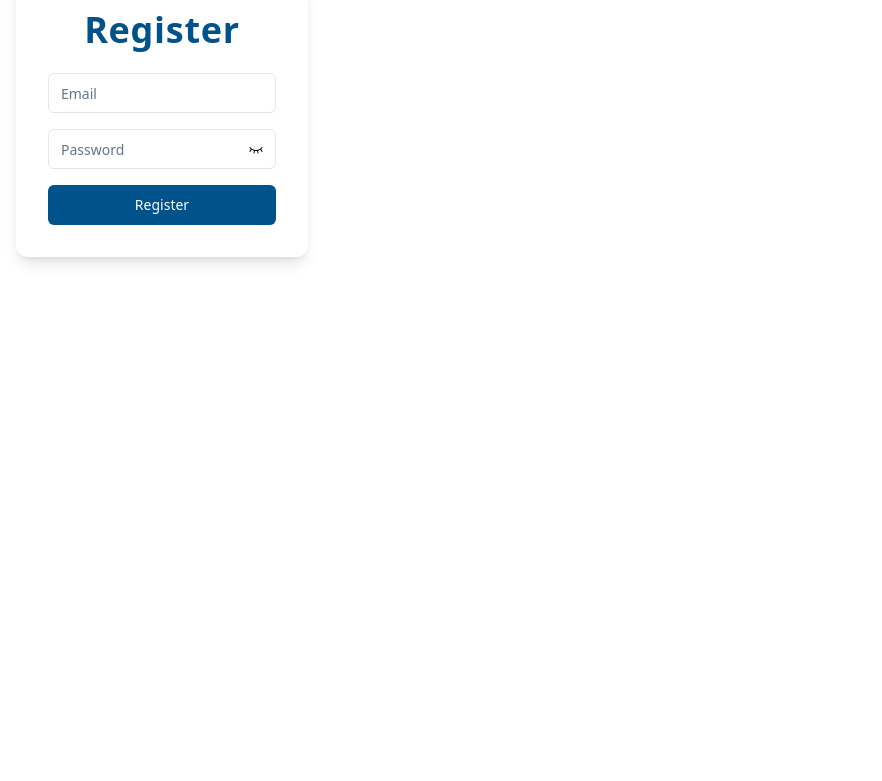
Test: RegisterPage › should reset input value and render success toast after the register successful
This screenshot has width=882, height=781.
Type "test@mail.com" into the field with placeholder "Email" at (162, 93), box [48,73,276,113]
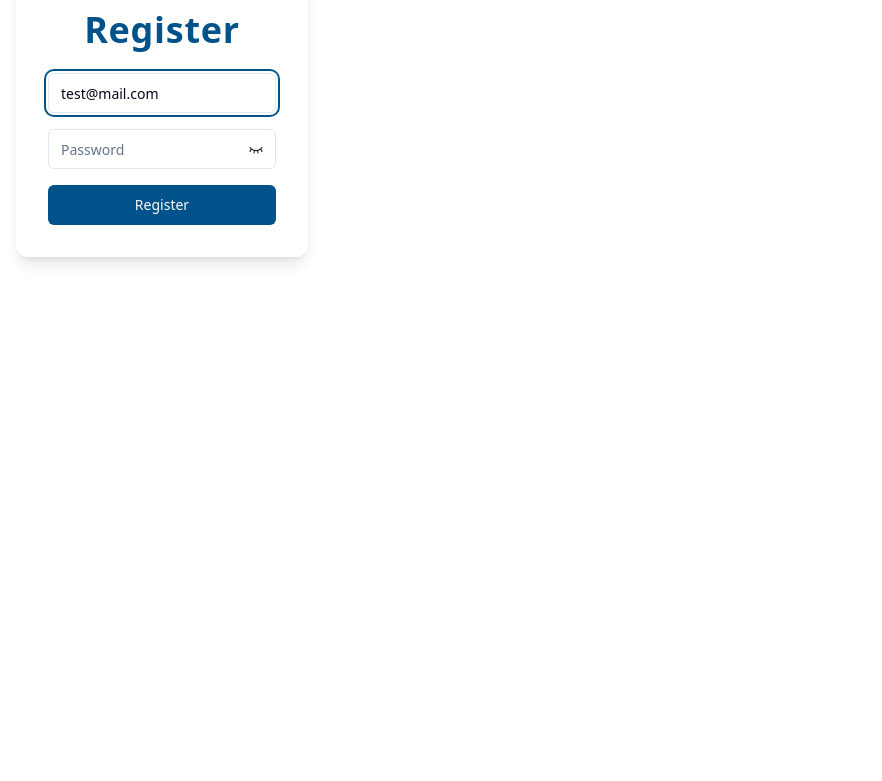
Type "12345" into the password field with placeholder "Password" at (162, 149), box [48,129,276,169]
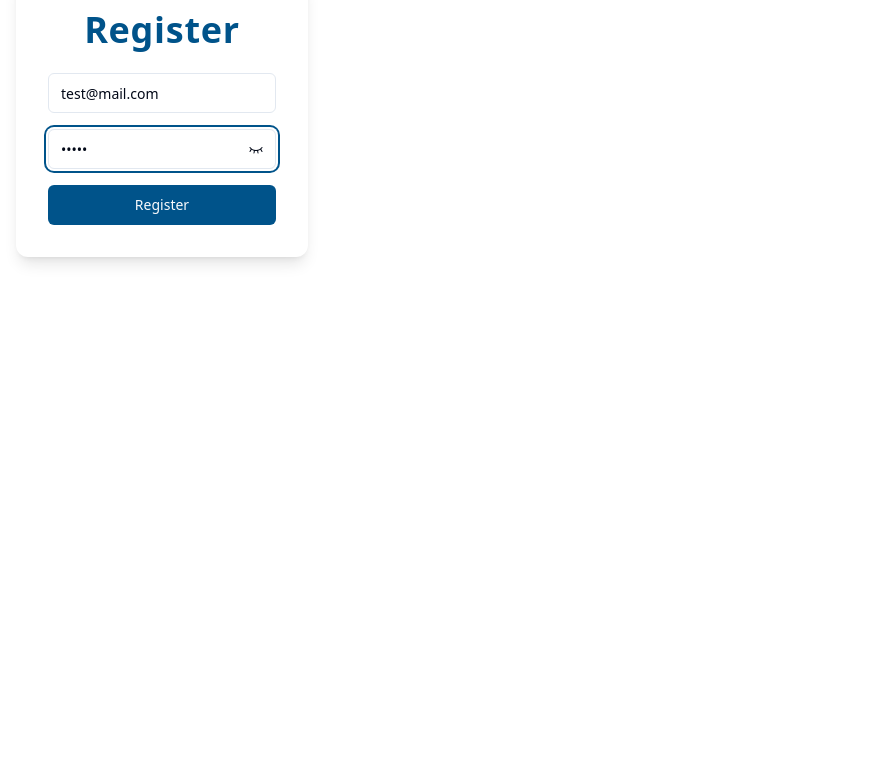
Click the button "Register" at (162, 205), box [48,185,276,225]
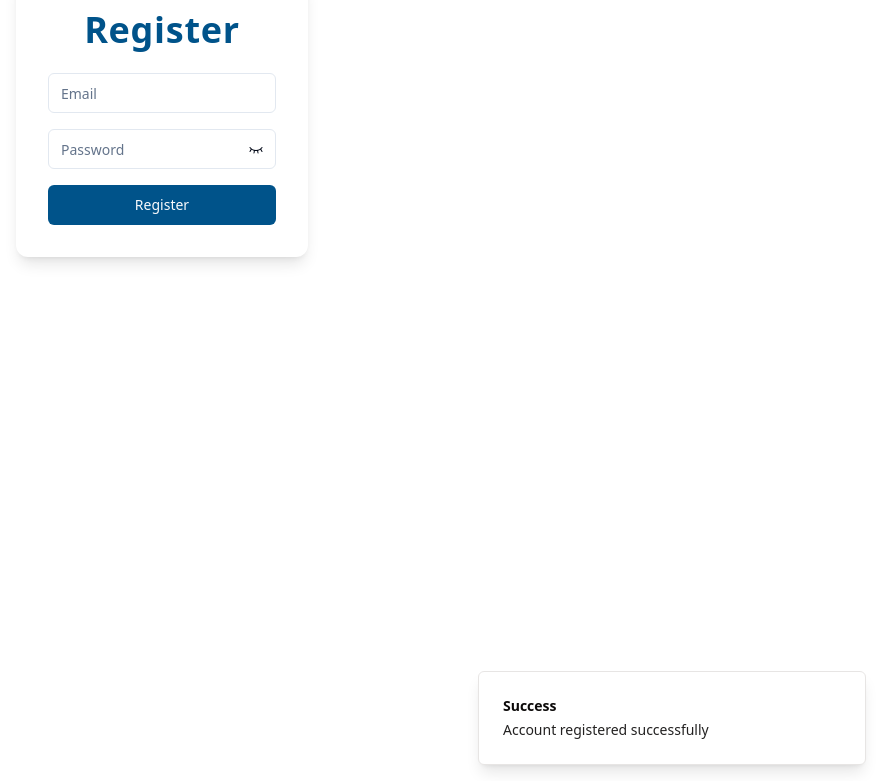
Expected: the field with placeholder "Email" is empty, [48,73,276,113]
Expected: the password field with placeholder "Password" is empty, [48,129,276,169]
Expected: the list item with test id "toast" shows "Success", [503,696,556,715]
